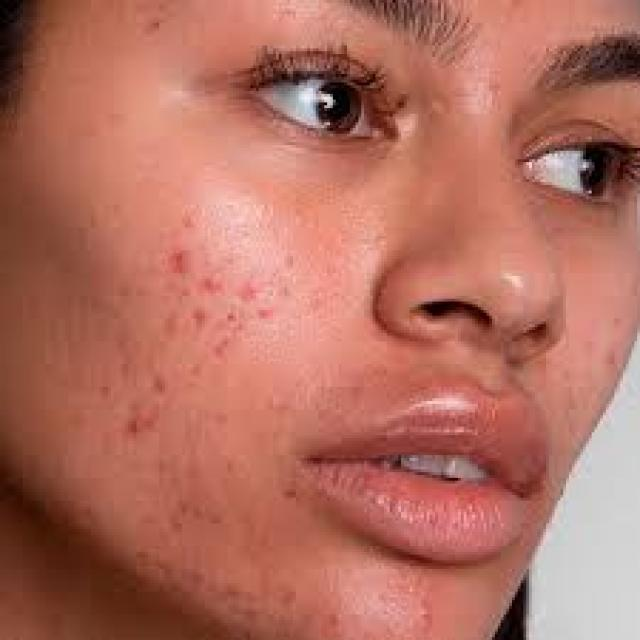pigmentation: (118, 234, 246, 478)
